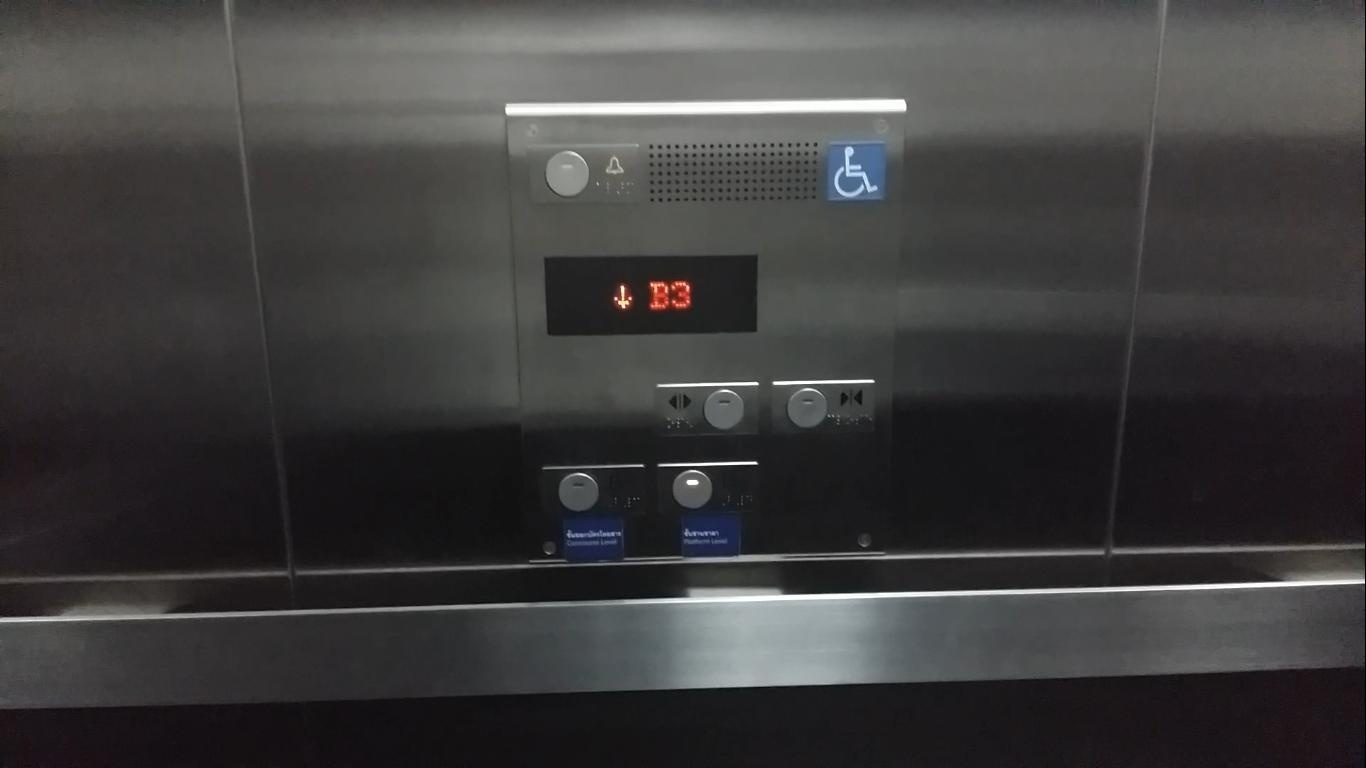CH: (824, 141, 886, 203)
alarm: (526, 141, 641, 207)
blur: (538, 462, 653, 521), (654, 460, 760, 518)
close: (769, 377, 879, 438)
led: (541, 251, 761, 338)
open: (650, 380, 761, 439)
